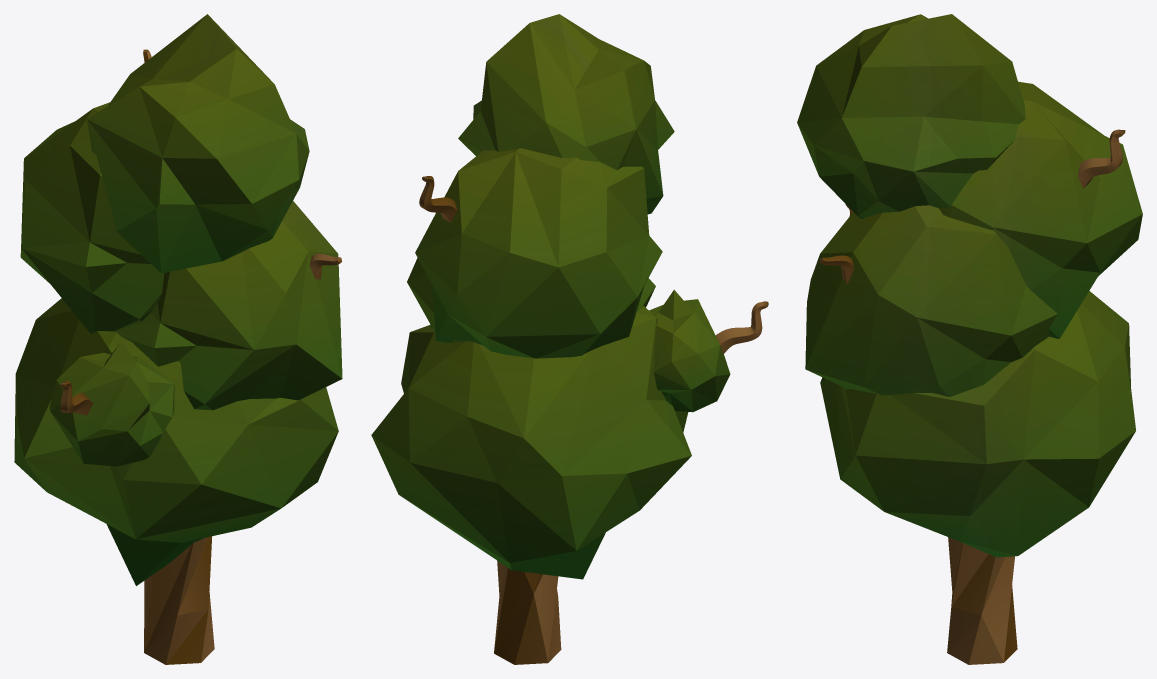
Rendered from happy tree v2.fbx.
3 renders of one model, left to right at view 1: azimuth 30°, elevation 25°; view 2: azimuth 150°, elevation 25°; view 3: azimuth 270°, elevation 25°, orthographic. The views are drawn at different scales.
Visible parts, largest first — view 1: leaves4, leaves, leaves3, leaves2, leaves5, bark, Branch03; view 2: leaves4, leaves2, leaves, leaves5, bark, leaves3, Branch03, Branch02_1; view 3: leaves4, leaves3, leaves, leaves2, bark, Branch02_1.
Boxes of the visible parts, x1,y1,x2,y2 form: leaves4: [14, 298, 338, 585]; leaves: [87, 14, 309, 273]; leaves3: [113, 201, 342, 410]; leaves2: [20, 102, 164, 333]; leaves5: [49, 341, 174, 466]; bark: [144, 536, 214, 664]; Branch03: [60, 380, 93, 415]; leaves4: [371, 305, 691, 579]; leaves2: [415, 148, 662, 358]; leaves: [458, 14, 674, 214]; leaves5: [649, 289, 730, 412]; bark: [494, 560, 561, 664]; leaves3: [407, 258, 655, 342]; Branch03: [715, 301, 768, 353]; Branch02_1: [419, 176, 457, 222]; leaves4: [820, 291, 1135, 557]; leaves3: [805, 205, 1057, 396]; leaves: [797, 14, 1025, 218]; leaves2: [938, 81, 1142, 338]; bark: [947, 537, 1017, 664]; Branch02_1: [1078, 129, 1125, 188].
Bounding box in the file's own units: 261 × 509 × 248.
